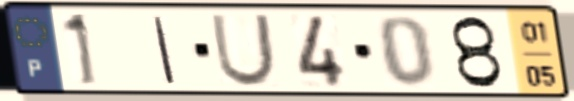0: (374, 13, 440, 91)
1: (59, 12, 101, 88)
4: (293, 12, 349, 90)
8: (448, 14, 505, 90)
I: (150, 14, 179, 87)
U: (207, 12, 279, 89)
